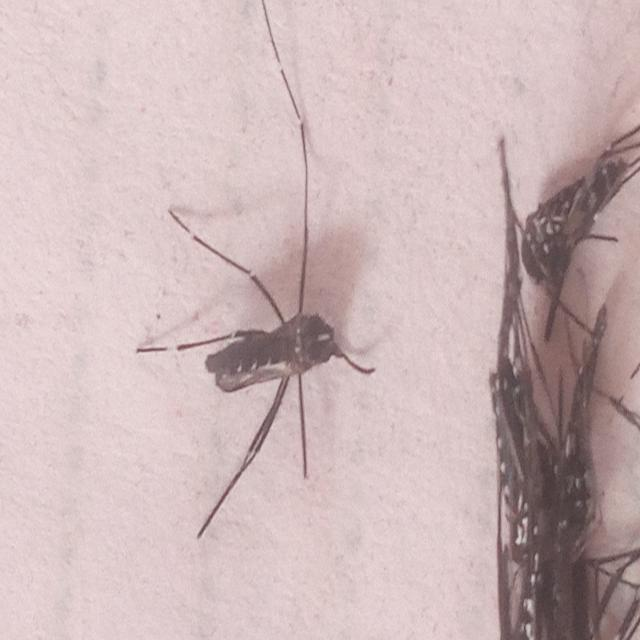albopictus: (156, 10, 397, 551)
